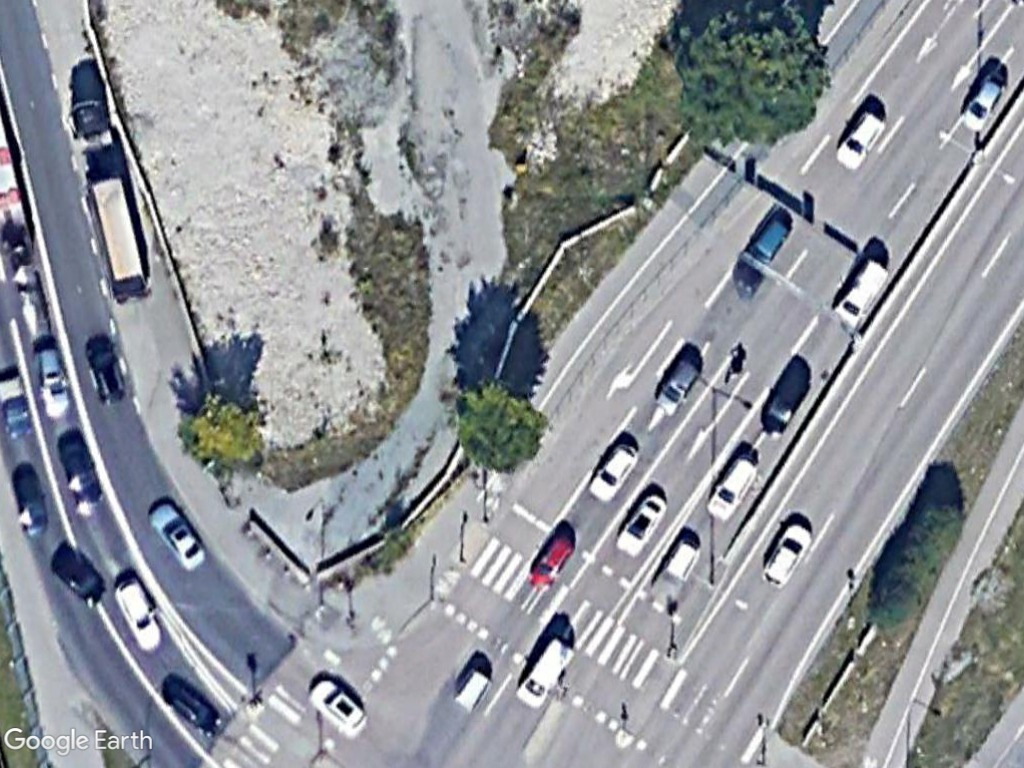car: (107, 571, 167, 660), (302, 674, 375, 745), (144, 498, 209, 577), (828, 101, 890, 179), (758, 514, 818, 594), (757, 362, 817, 442), (702, 447, 761, 525), (609, 487, 672, 560), (583, 437, 648, 507), (952, 64, 1013, 133), (648, 352, 705, 419), (28, 343, 73, 425), (523, 527, 577, 594)
truck: (84, 174, 156, 308)
van: (828, 249, 896, 330), (513, 636, 577, 712)
